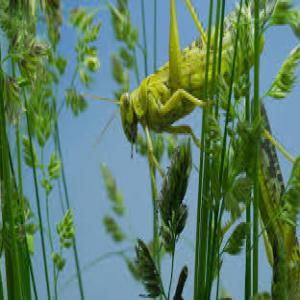locust: (116, 5, 258, 151)
